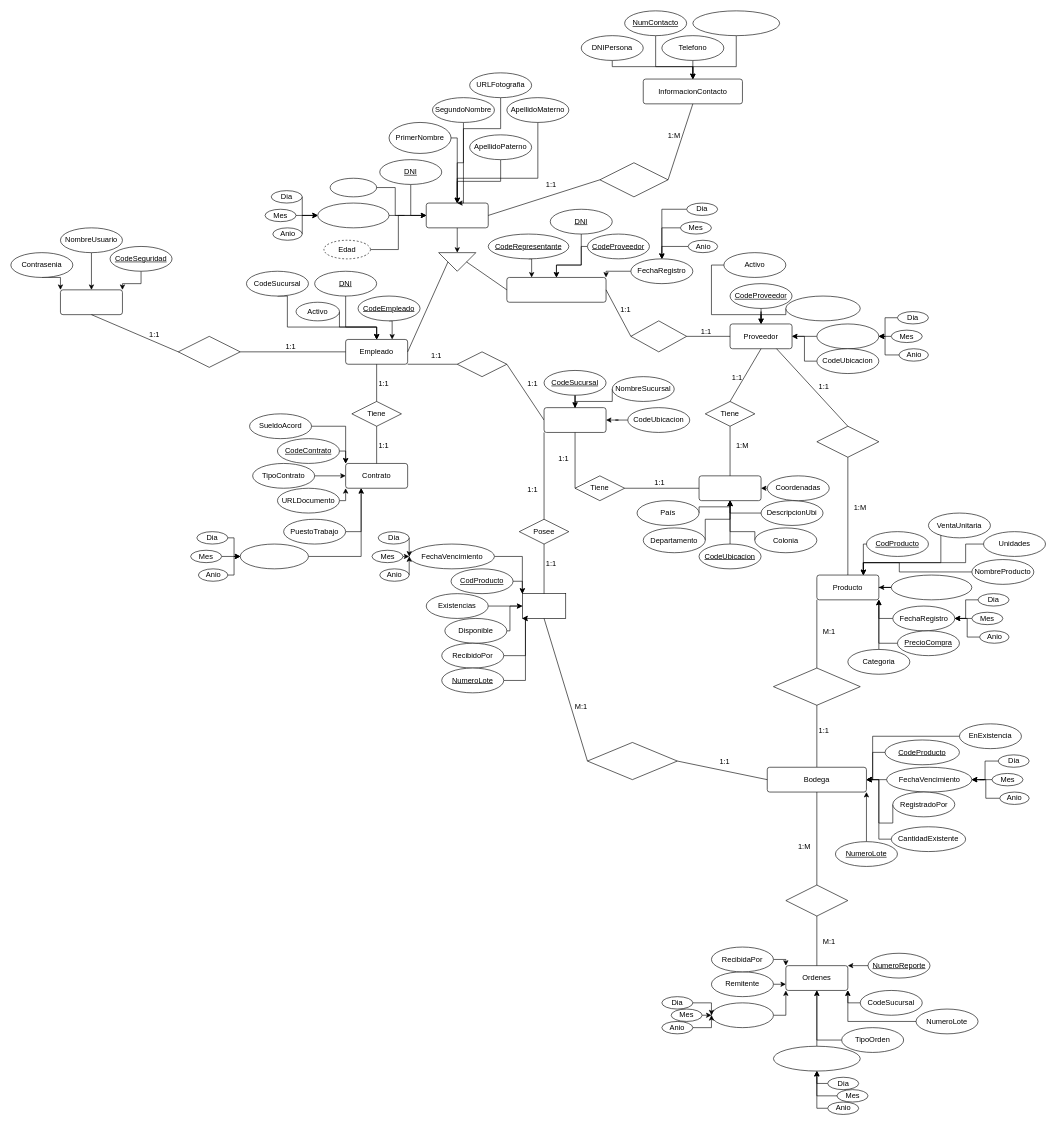
The diagram is 1056 pixels wide and 1125 high, and some of its shapes have lost their labels. The shapes that lost their labels are listed below. From the top down, each one's centre as x and y in pixels, then its label:
point 736,23: CorreoElectronico
point 353,187: Genero
point 633,179: Le pertenece
point 353,215: FechaNacimiento
point 457,215: Persona
point 91,302: Usuario
point 556,289: RepresentanteProveedor
point 822,308: NombreProveedor
point 209,351: Pertenece
point 658,336: Representa
point 847,336: FechaInicio
point 482,364: Trabaja
point 574,419: Sucursal
point 847,441: Distribuye
point 729,488: Ubicacion
point 274,556: FechaContratación
point 544,605: Inventario
point 931,587: DescripcionProducto
point 816,686: Permanece en
point 632,761: Es abastecido por
point 816,900: Recibe/Genera
point 742,1015: HoraFechaEnvio
point 816,1058: HoraFechaRecibimiento
